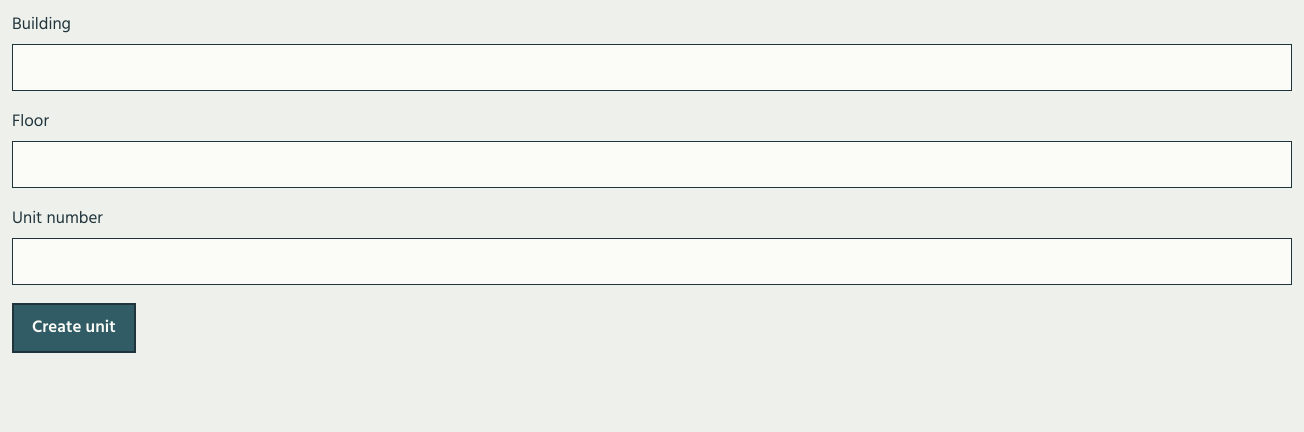
Test case: society and unit interfaces › renders server unit-number errors beside input
Type "A1" into the field labelled "Unit number" at (652, 261), box x1=12 y1=238 x2=1292 y2=285
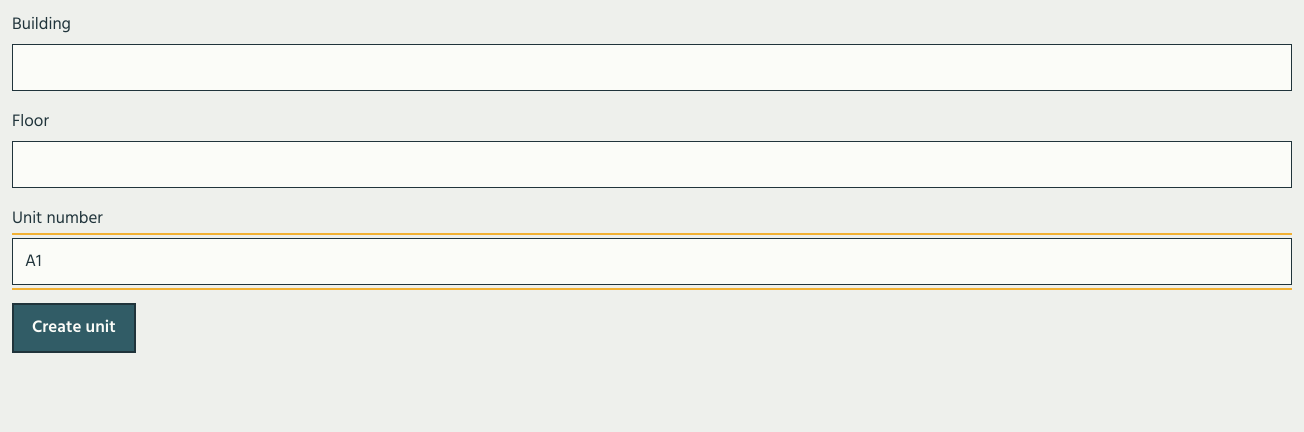
Click the button "Create unit" at (74, 328), box x1=12 y1=303 x2=136 y2=352
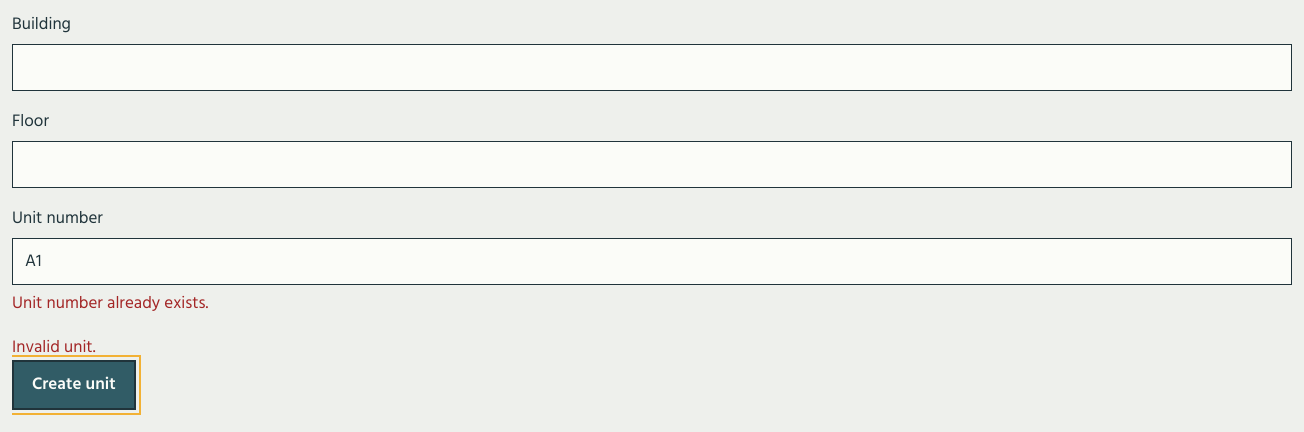
Now the text "Unit number already exists." is shown, box x1=12 y1=290 x2=208 y2=317
